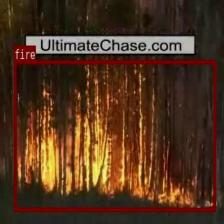fire: (14, 59, 215, 211)
